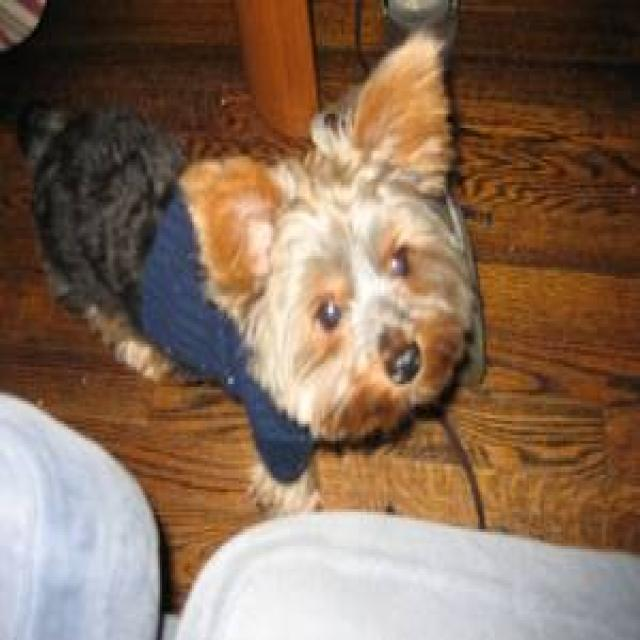dog-yorkshire_terrier: (6, 31, 478, 444)
